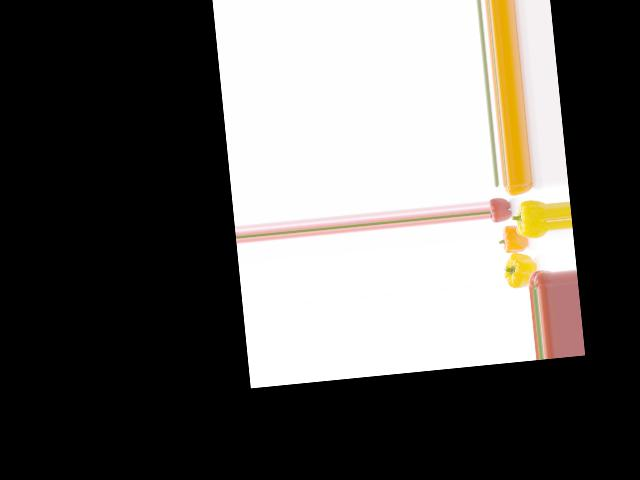bell_pepper: (502, 180, 534, 198)
